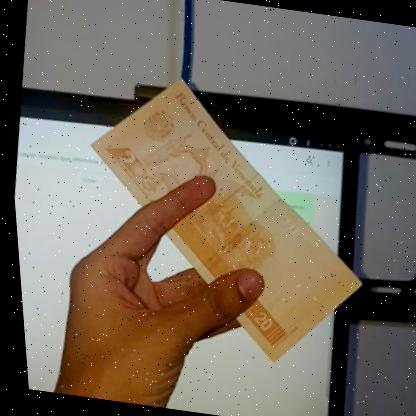twenty-back-vef: (55, 64, 388, 378)
